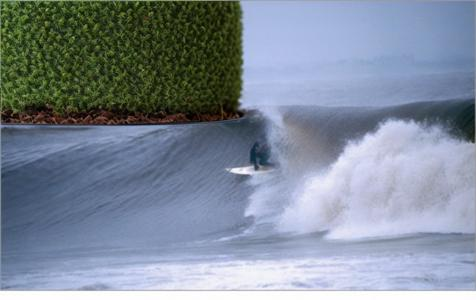person: (251, 141, 278, 172)
pottedplant: (1, 1, 243, 125)
